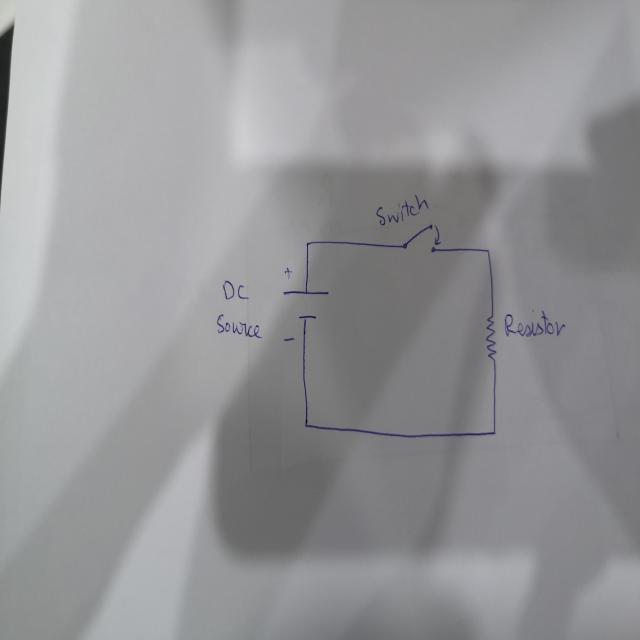junction: (480, 242, 493, 261), (302, 416, 312, 432), (488, 424, 498, 439), (304, 238, 311, 248)
resistor: (484, 310, 497, 364)
source: (281, 286, 329, 320)
switch: (400, 220, 441, 256)
text: (503, 305, 568, 338), (375, 193, 431, 227), (216, 310, 262, 340), (221, 278, 250, 302)
